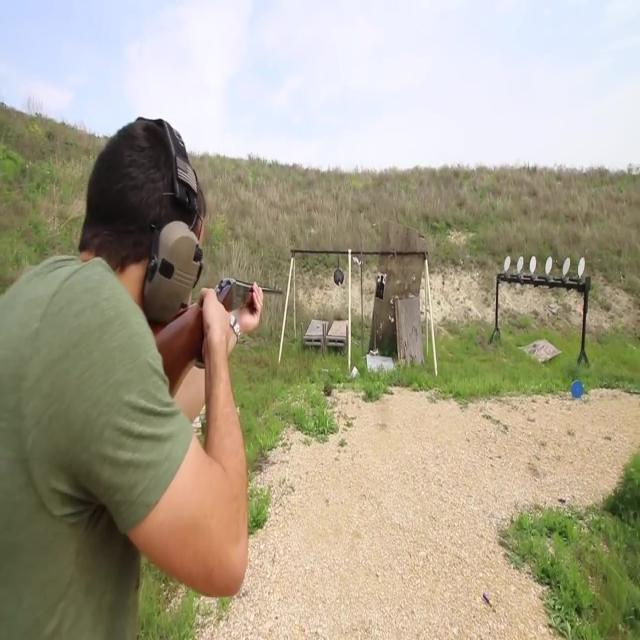Weapon: (112, 231, 334, 441)
